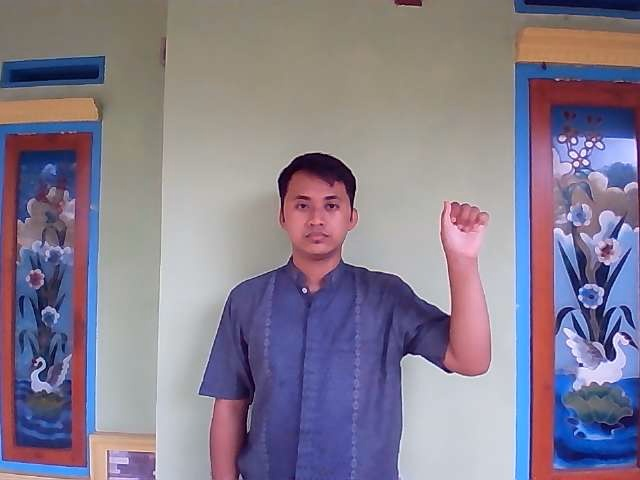A: (435, 196, 492, 271)
